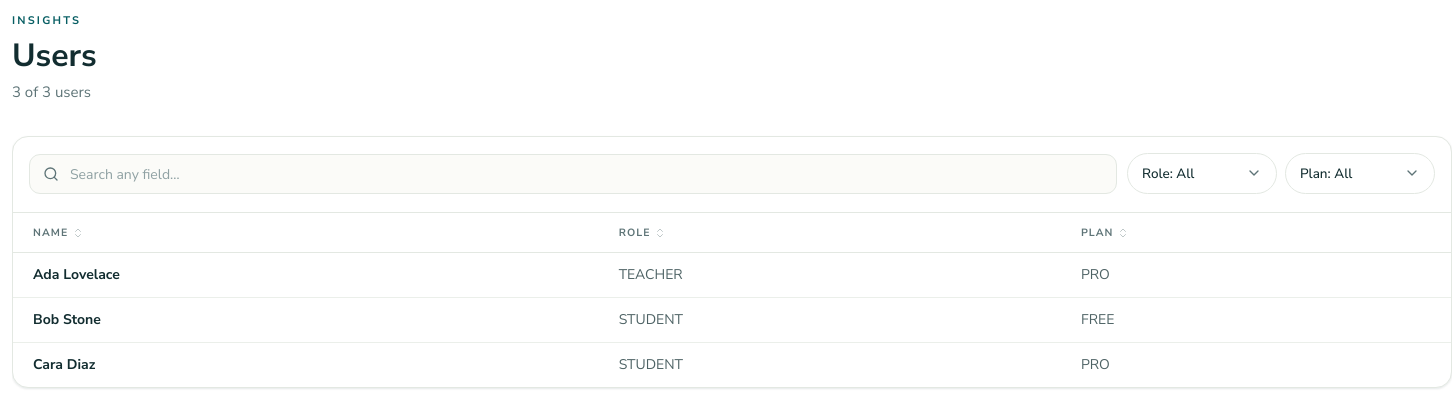
Test: DataTable › clears the search from the box's own button
Type "ada" into the field with placeholder "Search any field…".
click(573, 174); type("ada")  # box left=29, top=154, right=1117, bottom=194
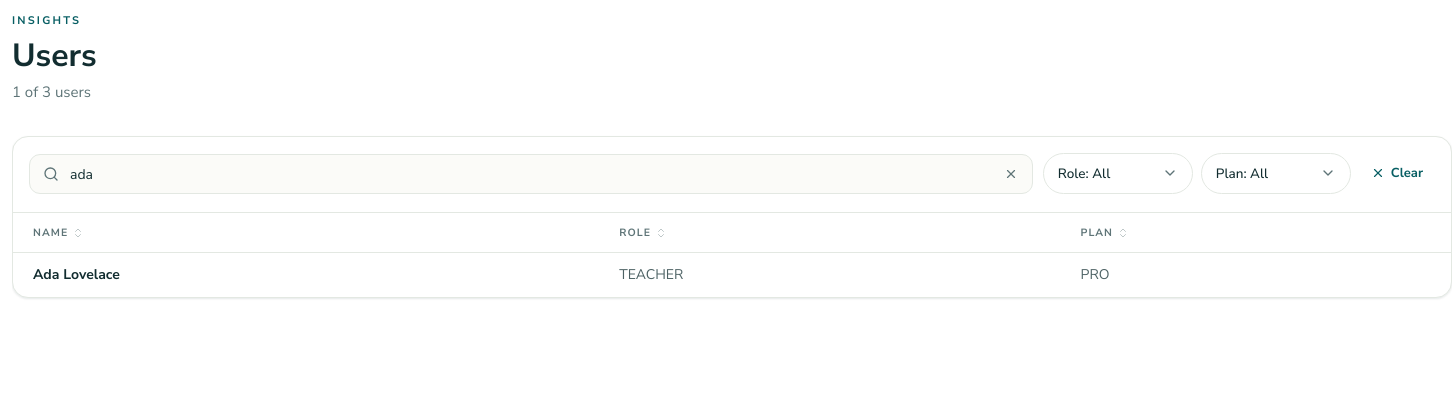
Click the button named "Clear search".
click(1011, 174)  # box left=997, top=160, right=1025, bottom=188
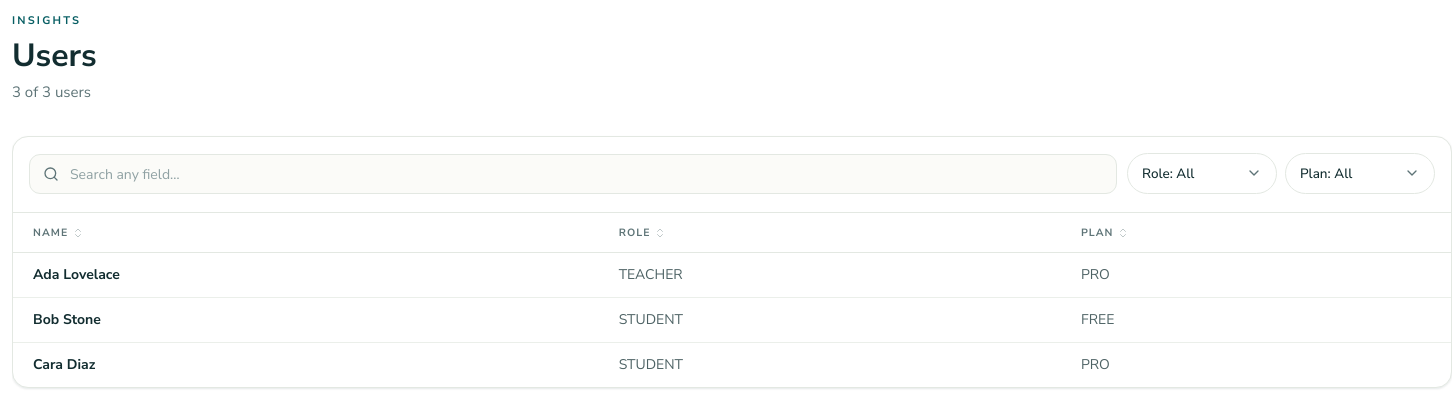
Now the text "3 of 3 users" is shown, box left=12, top=82, right=91, bottom=102
